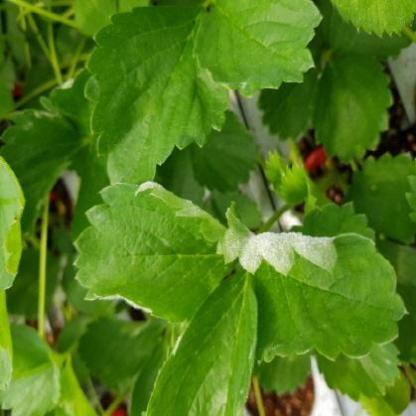Strawberry_Powdery_Mildew_Leaf: (223, 199, 408, 366), (70, 180, 237, 324), (146, 270, 259, 415), (314, 341, 402, 402)
